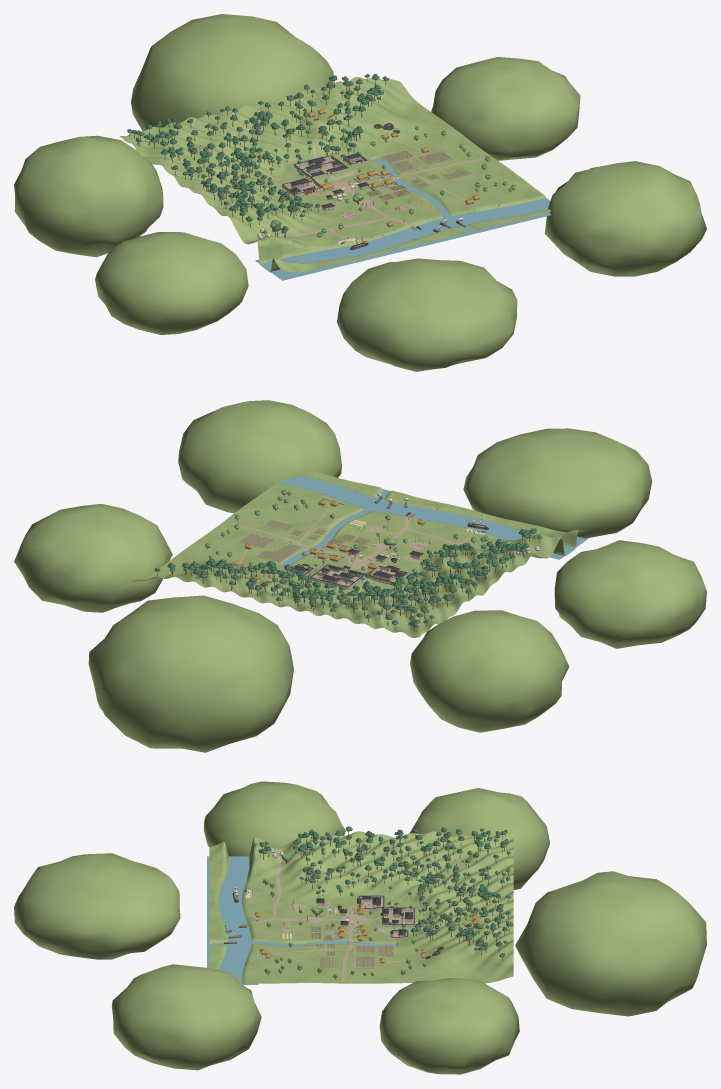
File: joseon_late.glb
The picture shows the model from 3 angles, top to bottom: view 1: azimuth 30°, elevation 25°; view 2: azimuth 150°, elevation 25°; view 3: azimuth 270°, elevation 25°; orthographic projection. The views are drawn at different scales.
Parts seen in each view (by area): view 1: static_grass, static_pine, static_water, static_dirt, static_bark, static_paddy, static_tile, static_rice, static_leaf2; view 2: static_grass, static_pine, static_water, static_dirt, static_bark, static_paddy, static_tile, static_rice, static_leaf2; view 3: static_grass, static_pine, static_water, static_dirt, static_bark, static_paddy, static_tile, static_rice, static_leaf2.
Boxes of the visible parts, bbox=[...] form: static_grass: bbox=[14, 14, 706, 371]; static_pine: bbox=[127, 73, 389, 233]; static_water: bbox=[255, 158, 551, 280]; static_dirt: bbox=[201, 120, 484, 241]; static_bark: bbox=[129, 78, 397, 237]; static_paddy: bbox=[366, 151, 471, 200]; static_tile: bbox=[282, 153, 369, 208]; static_rice: bbox=[287, 151, 531, 260]; static_leaf2: bbox=[270, 126, 516, 237]; static_grass: bbox=[14, 400, 706, 752]; static_pine: bbox=[154, 528, 541, 627]; static_water: bbox=[279, 476, 587, 565]; static_dirt: bbox=[230, 508, 541, 607]; static_bark: bbox=[157, 533, 534, 631]; static_paddy: bbox=[240, 520, 369, 561]; static_tile: bbox=[289, 548, 423, 586]; static_rice: bbox=[241, 484, 565, 564]; static_leaf2: bbox=[205, 489, 512, 574]; static_grass: bbox=[14, 781, 706, 1074]; static_pine: bbox=[258, 826, 513, 956]; static_water: bbox=[207, 856, 396, 984]; static_dirt: bbox=[252, 850, 463, 980]; static_bark: bbox=[260, 831, 509, 960]; static_paddy: bbox=[310, 924, 393, 968]; static_tile: bbox=[316, 895, 414, 937]; static_rice: bbox=[219, 855, 393, 967]; static_leaf2: bbox=[262, 853, 426, 978].
Size of the model in its own units: 513 by 114 by 592.
53 materials, 6 textured.
